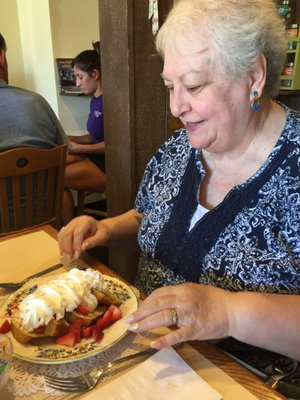pasta: (0, 144, 67, 238)
